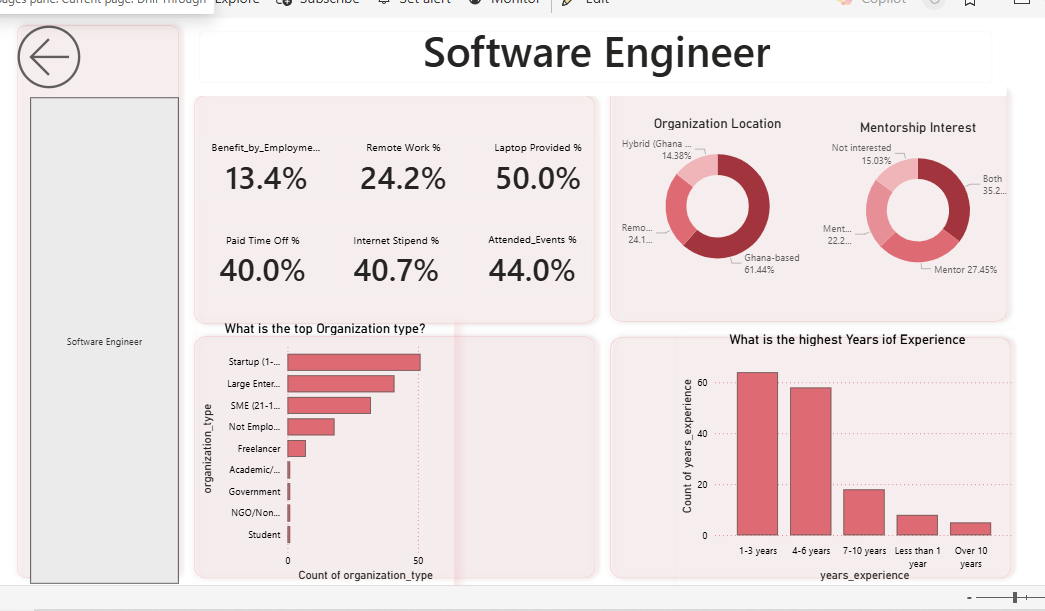

What the dashboard file says about the page in this screenshot:
{"tool":"powerbi","page":{"name":"Drill Through","canvas":[1280,720],"ordinal":10},"visuals":[{"type":"group","id":"g1","title":"Group 1","box":[0,0,1280,720.5],"z":500},{"type":"shape","box":[752.5,78.7,522.6,316],"z":1000,"group":"g1"},{"type":"donutChart","title":"Mentorship Interest","fields":{"Y":["CountNonNull(dim_table.mentoring_interest)"],"Category":["dim_table.mentoring_interest"]},"box":[1026.2,127.7,253.8,212.8],"z":1000},{"type":"shape","box":[225,88.5,527.5,308.6],"z":2000,"group":"g1"},{"type":"donutChart","title":"Organization Location","fields":{"Category":["dim_table.organization_location"],"Y":["CountNonNull(dim_table.organization_location)"]},"box":[770.8,123,255.4,212.8],"z":2000},{"type":"shape","box":[225,394.7,527.5,325.8],"z":3000,"group":"g1"},{"type":"columnChart","title":"What is the highest Years iof Experience","fields":{"Category":["dim_table.years_experience"],"Y":["CountNonNull(dim_table.years_experience)"]},"box":[847.2,397.2,432.8,323.4],"z":3000},{"type":"barChart","title":"What is the top Organization type?","fields":{"Category":["dim_table.organization_type"],"Y":["CountNonNull(dim_table.organization_type)"]},"box":[237.8,383.3,325.6,336.7],"z":4000},{"type":"shape","box":[752.5,395.9,527.5,324.6],"z":4000,"group":"g1"},{"type":"shape","box":[0,0,223.3,720],"z":5000,"group":"g1"},{"type":"cardVisual","fields":{"Data":["@measures (2).Attended_Events %"]},"box":[574.4,251.1,177.8,110],"z":5000},{"type":"cardVisual","fields":{"Data":["@measures (2).Paid Time Off %"]},"box":[233.3,251.1,173.3,111.1],"z":6000},{"type":"cardVisual","fields":{"Data":["@measures (2).Benefit_by_Employment %"]},"box":[224.4,133.3,201.1,114.4],"z":7000},{"type":"cardVisual","fields":{"Data":["dim_table.Remote Work %"]},"box":[406.7,133.3,185.6,114.4],"z":8000},{"type":"cardVisual","fields":{"Data":["@measures (2).Internet Stipend %"]},"box":[387.8,251.1,205.6,111.1],"z":9000},{"type":"cardVisual","fields":{"Data":["@measures (2).Laptop Provided %"]},"box":[574.4,133.3,192.2,114.4],"z":10000},{"type":"slicer","fields":{"Values":["dim_table.primary_role"]},"box":[0,98.9,237.8,621.1],"z":11000},{"type":"cardVisual","fields":{"Data":["Min(dim_table.primary_role)"]},"box":[223.8,0,1042,99.3],"z":12000},{"type":"actionButton","box":[0,0,210,98.9],"z":13000}]}

Visuals, with their boxes on the page's 1280x720 design canvas (x1, y1, x2, y2). These are canvas units, not pixel positions in the 1045x611 screenshot, which may show the page scaled, cropped or inside an application window:
"Group 1" group: (0,0,1280,720)
shape: (752,79,1275,395)
"Mentorship Interest" donutChart: (1026,128,1280,340)
shape: (225,88,752,397)
"Organization Location" donutChart: (771,123,1026,336)
shape: (225,395,752,720)
"What is the highest Years iof Experience" columnChart: (847,397,1280,721)
"What is the top Organization type?" barChart: (238,383,563,720)
shape: (752,396,1280,720)
shape: (0,0,223,720)
cardVisual - @measures (2).Attended_Events %: (574,251,752,361)
cardVisual - @measures (2).Paid Time Off %: (233,251,407,362)
cardVisual - @measures (2).Benefit_by_Employment %: (224,133,426,248)
cardVisual - dim_table.Remote Work %: (407,133,592,248)
cardVisual - @measures (2).Internet Stipend %: (388,251,593,362)
cardVisual - @measures (2).Laptop Provided %: (574,133,767,248)
slicer - dim_table.primary_role: (0,99,238,720)
cardVisual - Min(dim_table.primary_role): (224,0,1266,99)
actionButton: (0,0,210,99)
